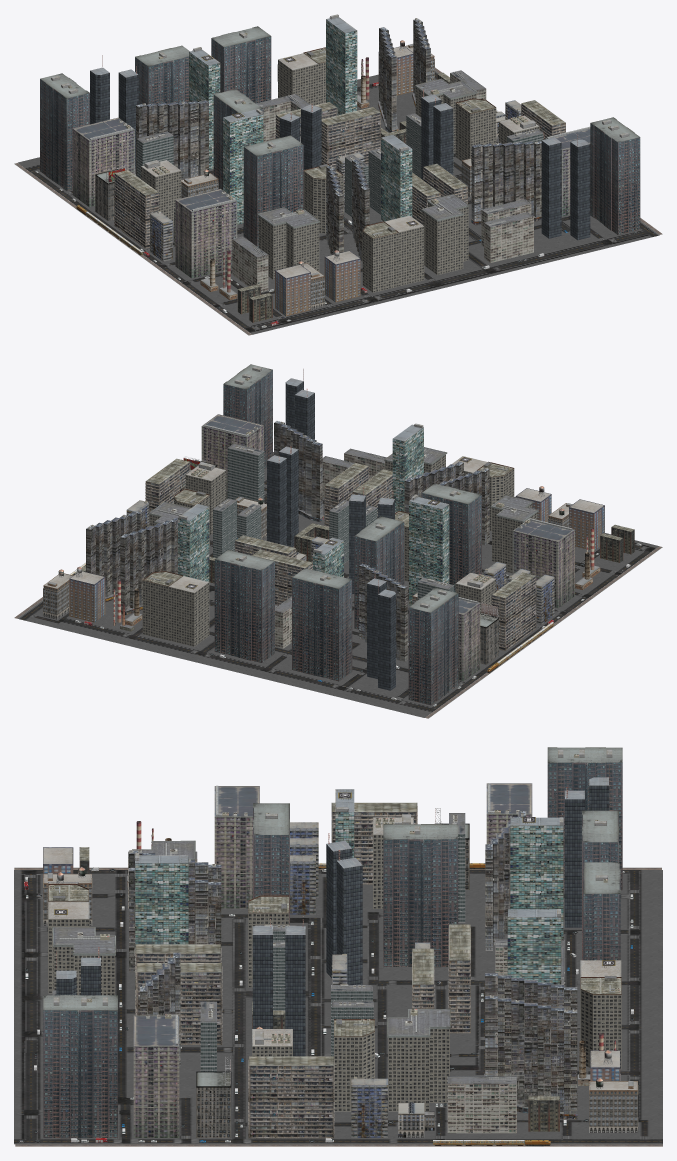
File: city.obj
3 views of the same model, one above another, from view 1: azimuth 30°, elevation 25°; view 2: azimuth 150°, elevation 25°; view 3: azimuth 270°, elevation 25° (orthographic). The views are drawn at different scales.
Parts seen in each view (by area): view 1: Plane, Building2, Building2.005, Building12.002, Building3.002, Building2.003, Building12.005, Building3.001, Building2.002, building.018, building.012, Building1.001 (+50 smaller); view 2: Plane, Building2.002, Building2.004, Building2.003, Building3.002, Building1.002, Building12.001, Building2.005, Building2.001, Building2, building.007, Building12 (+45 smaller); view 3: Plane, Building2, Building2.001, Building12, Building5, building.001, Building3, Building1, Building1.003, Building3.002, Building2.003, Building10 (+49 smaller).
Part boxes in pixels (x1=…): Plane: x1=18, y1=71, x2=659, y2=334; Building2: x1=590, y1=117, x2=640, y2=234; Building2.005: x1=243, y1=135, x2=303, y2=247; Building12.002: x1=471, y1=140, x2=541, y2=220; Building3.002: x1=175, y1=189, x2=237, y2=278; Building2.003: x1=40, y1=73, x2=89, y2=190; Building12.005: x1=136, y1=100, x2=208, y2=177; Building3.001: x1=73, y1=117, x2=134, y2=207; Building2.002: x1=211, y1=26, x2=271, y2=103; building.018: x1=257, y1=207, x2=320, y2=279; building.012: x1=421, y1=194, x2=469, y2=274; Building1.001: x1=326, y1=17, x2=357, y2=115; Plane: x1=18, y1=452, x2=658, y2=717; Building2.002: x1=214, y1=549, x2=274, y2=662; Building2.004: x1=292, y1=568, x2=352, y2=681; Building2.003: x1=408, y1=587, x2=458, y2=705; Building3.002: x1=512, y1=520, x2=574, y2=608; Building1.002: x1=409, y1=497, x2=449, y2=605; Building12.001: x1=120, y1=517, x2=177, y2=610; Building2.005: x1=421, y1=483, x2=481, y2=592; Building2.001: x1=354, y1=516, x2=404, y2=629; Building2: x1=223, y1=364, x2=272, y2=468; building.007: x1=168, y1=576, x2=209, y2=646; Building12: x1=86, y1=509, x2=145, y2=597; Plane: x1=14, y1=870, x2=662, y2=1144; Building2: x1=43, y1=995, x2=117, y2=1138; Building2.001: x1=383, y1=824, x2=458, y2=967; Building12: x1=485, y1=996, x2=577, y2=1113; Building5: x1=248, y1=1056, x2=334, y2=1138; building.001: x1=387, y1=1009, x2=450, y2=1111; Building3: x1=133, y1=1015, x2=179, y2=1137; Building1: x1=510, y1=817, x2=563, y2=939; Building1.003: x1=135, y1=855, x2=188, y2=1006; Building3.002: x1=214, y1=786, x2=259, y2=908; Building2.003: x1=547, y1=747, x2=622, y2=890; Building10: x1=447, y1=1076, x2=516, y2=1133.
Bounding box in the file's own units: 28.66 × 7.31 × 28.16.
6 materials, 6 textured.
